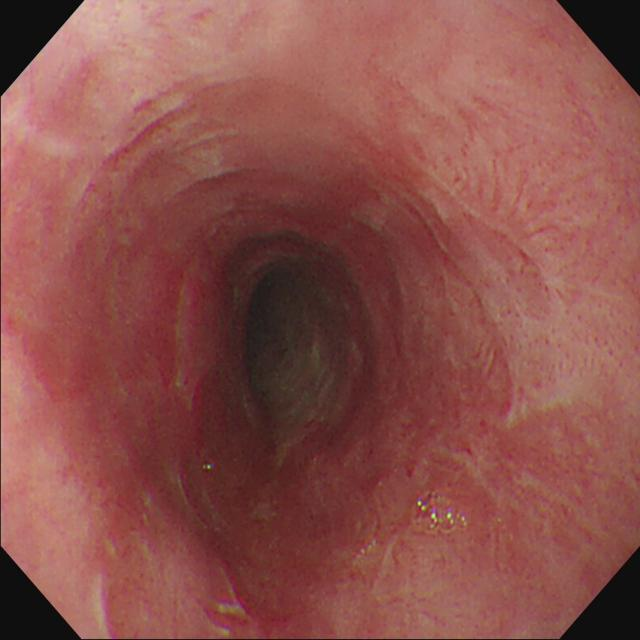A: (307, 419, 561, 640), (374, 224, 640, 419)
E: (248, 271, 349, 421)
U: (416, 496, 469, 528)
